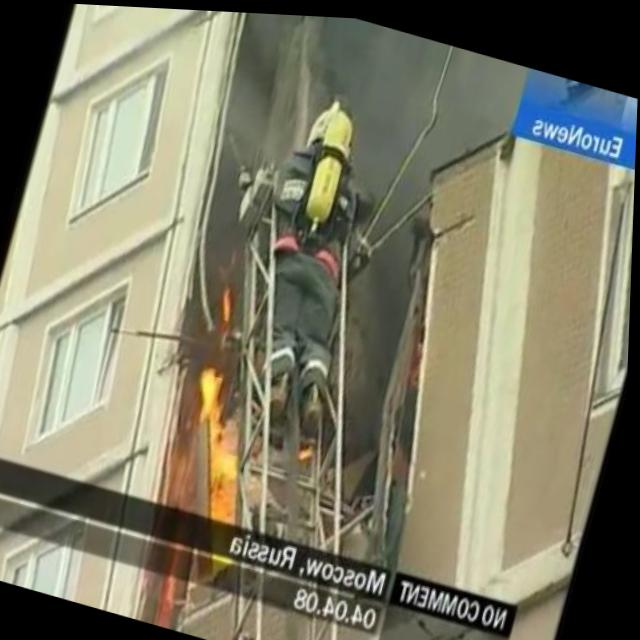fire: (172, 354, 264, 498), (208, 276, 244, 322)
